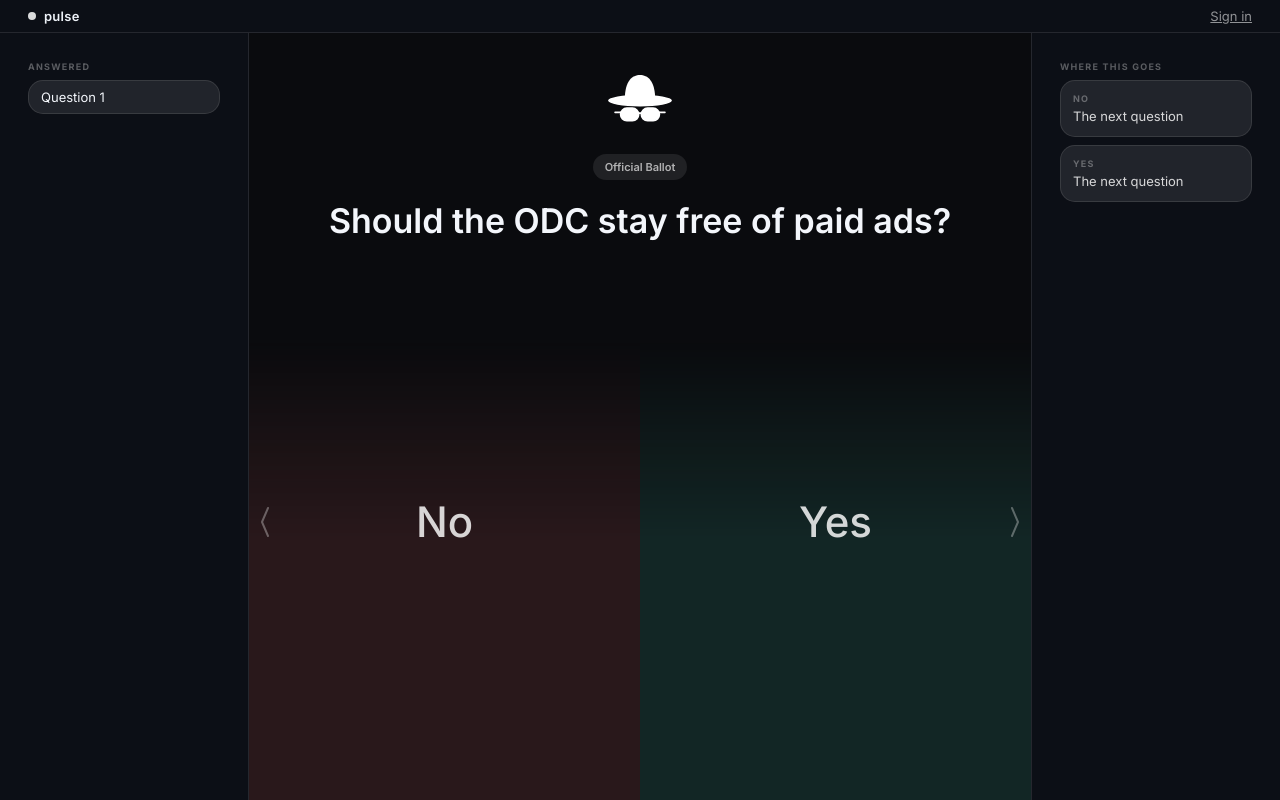
Scenario: going back › goes back a step at a time rather than jumping to the start
The width and height of the screenshot is (1280, 800).
Expected: the heading "Should the ODC stay free of paid ads?" is shown, [329, 198, 951, 244]
Press ArrowRight in the button "Yes", box [640, 244, 1031, 799]
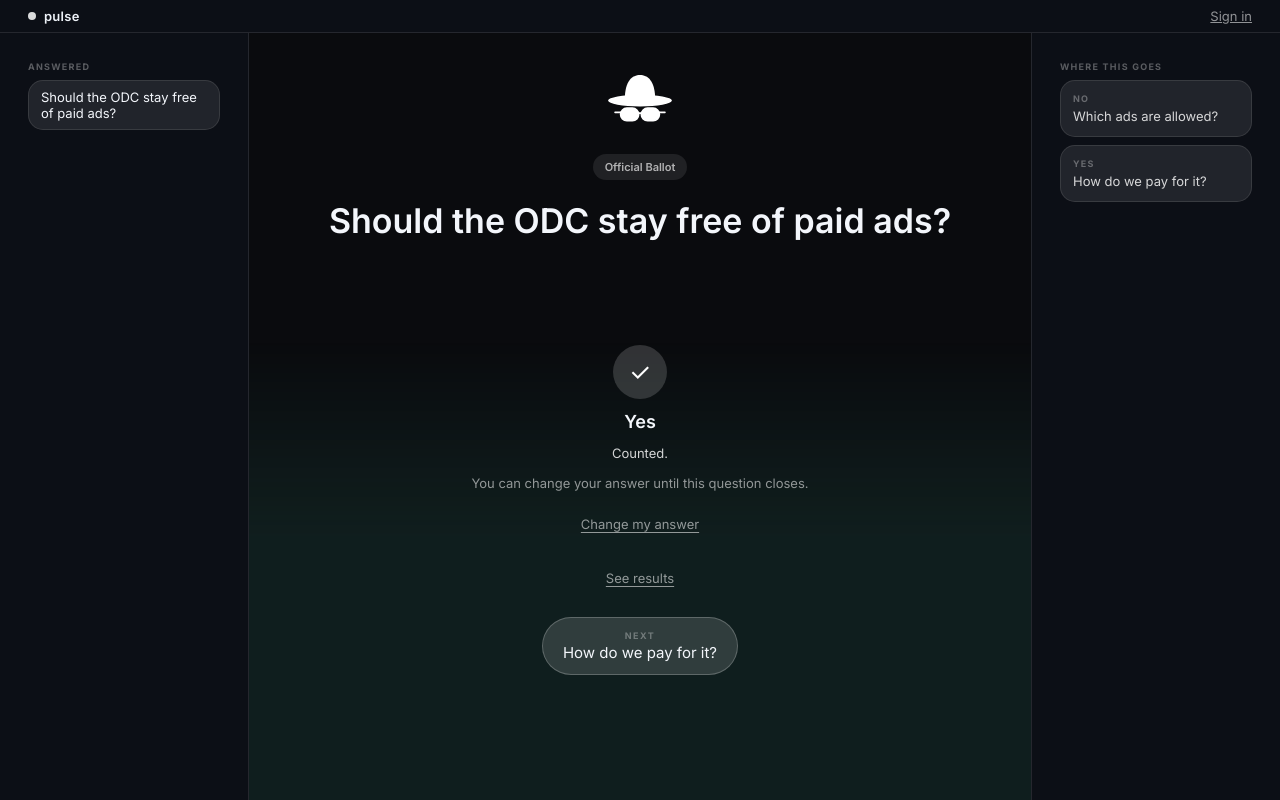
Click the button "NEXT How do we pay for it?". click: (640, 646)
box: [542, 617, 738, 675]
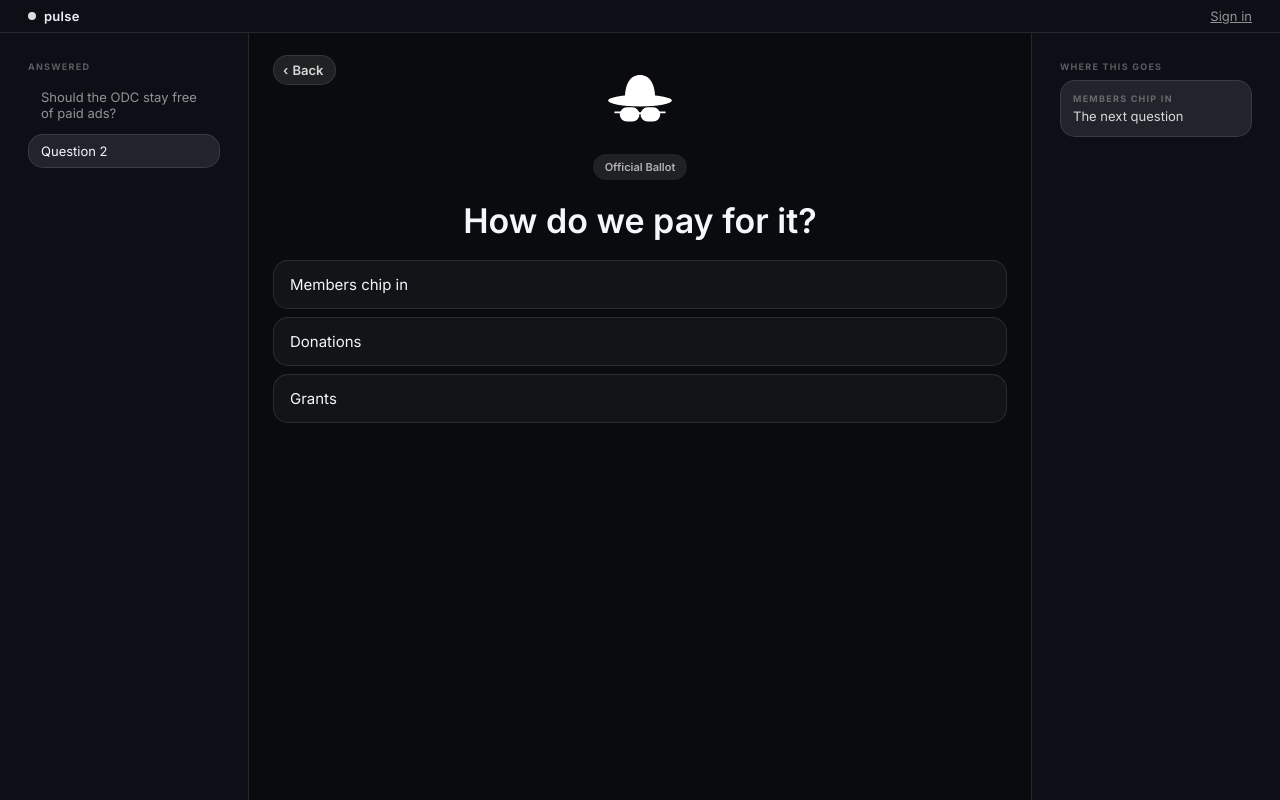
Result: the heading "How do we pay for it?" is shown at [463, 198, 817, 244]
Click the button "Members chip in". click: (349, 284)
box: [273, 260, 1007, 309]
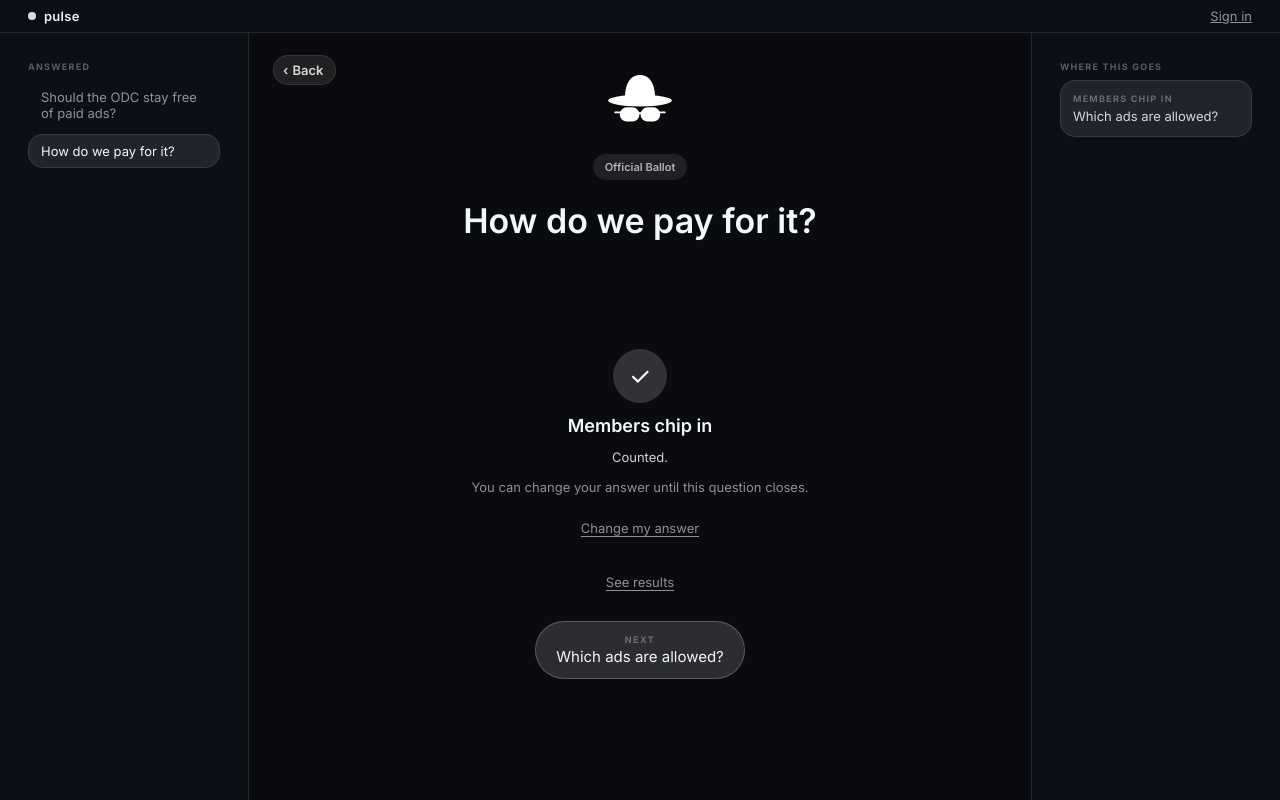
Click the button "NEXT Which ads are allowed?". click: (640, 650)
box: [535, 621, 745, 679]
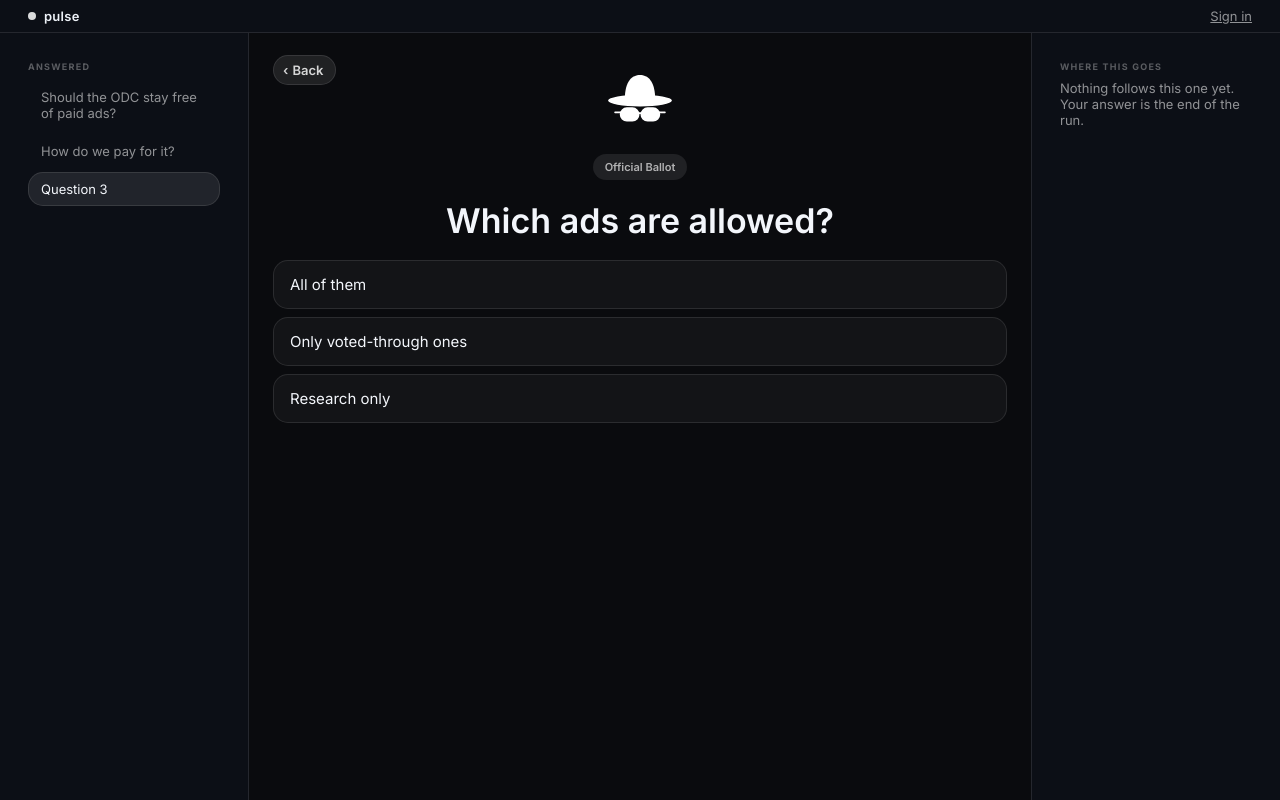
Result: the heading "Which ads are allowed?" is shown at [446, 198, 834, 244]
Click the button "‹ Back". click: (305, 70)
box: [273, 55, 336, 85]
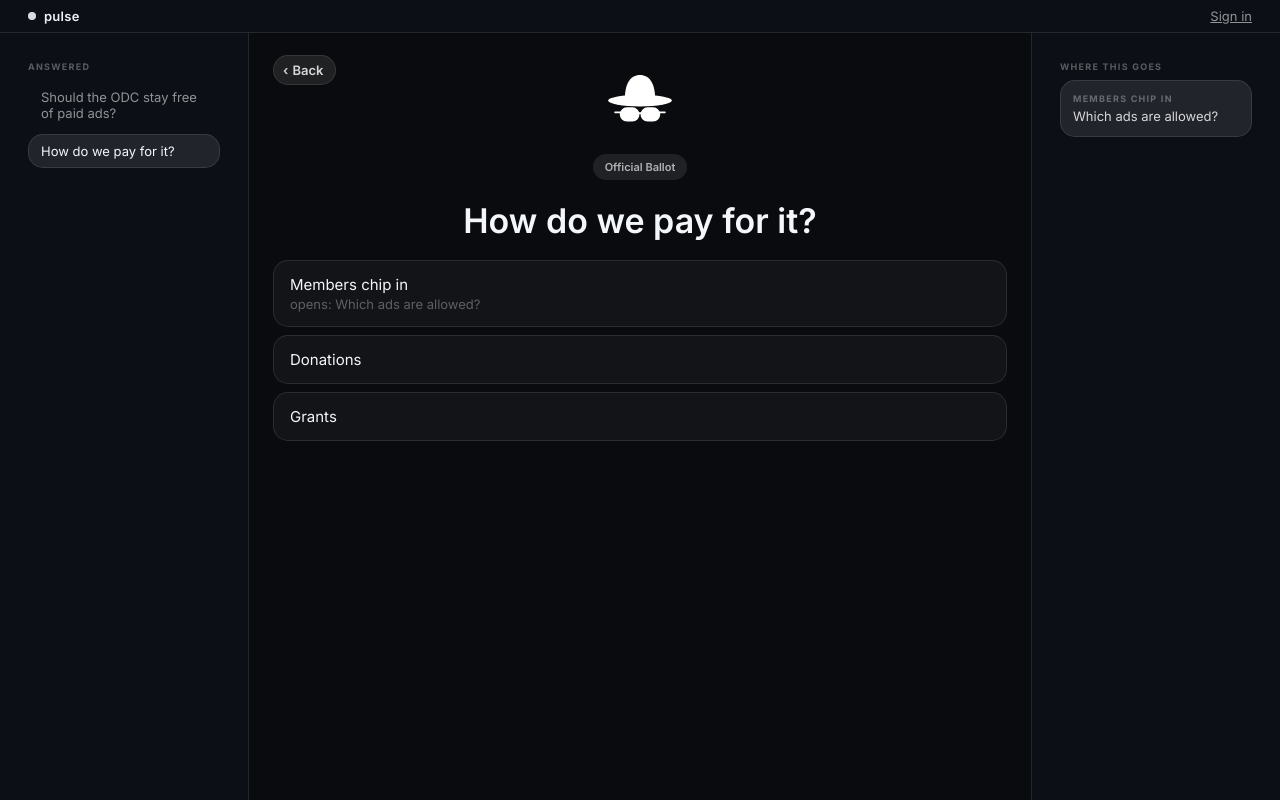
Result: the heading "How do we pay for it?" is shown at [463, 198, 817, 244]
